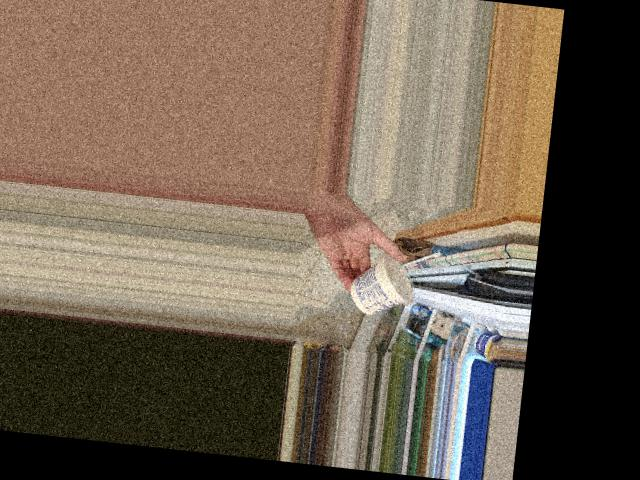cotage: (349, 255, 418, 317)
